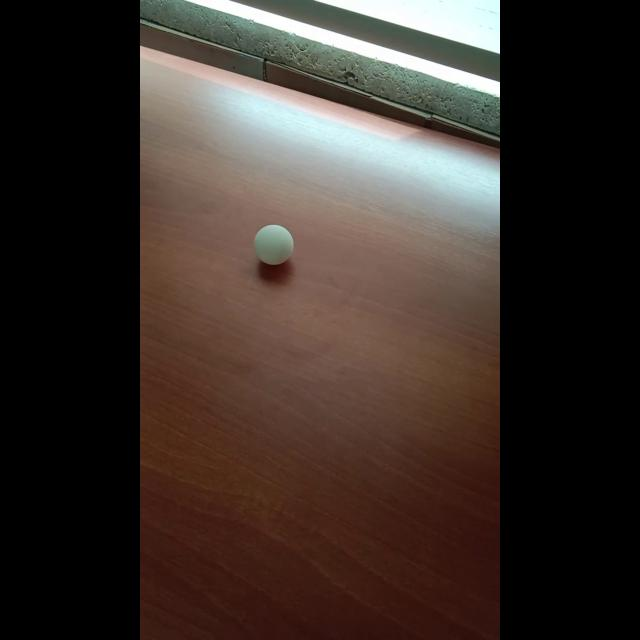white ball: (254, 223, 294, 265)
